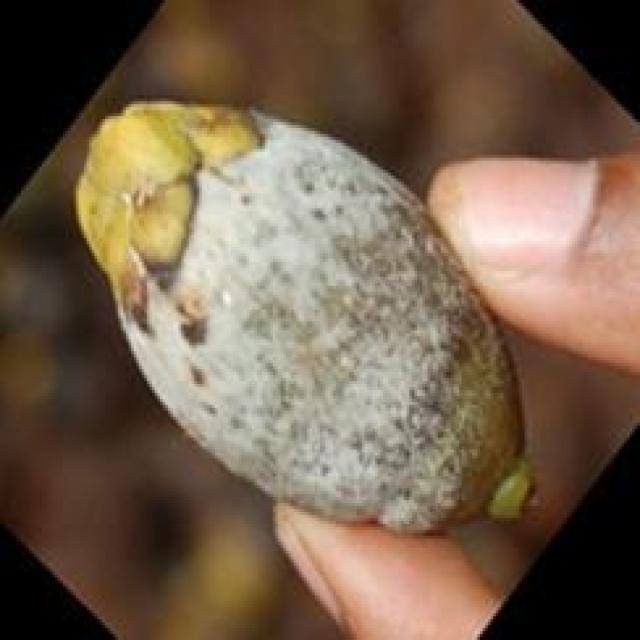damaged: (73, 104, 535, 536)
